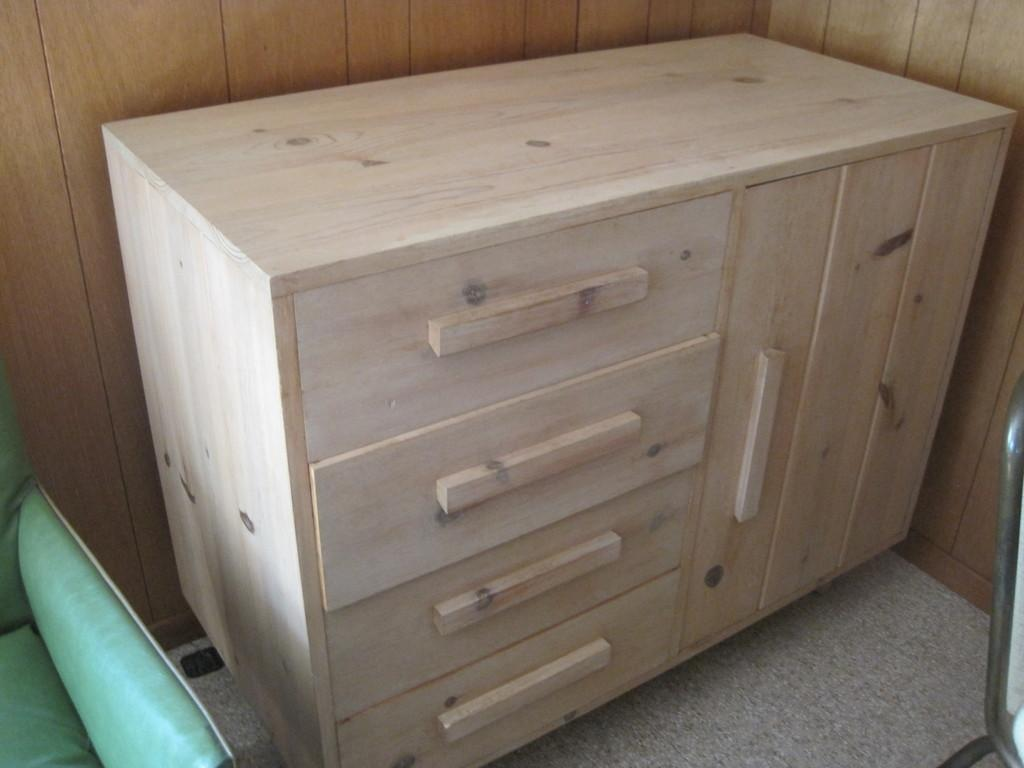cabinet_door: (306, 242, 722, 373), (349, 375, 696, 528), (351, 534, 692, 630), (732, 194, 801, 624), (810, 190, 876, 581), (375, 648, 673, 730), (887, 180, 955, 534)
handle: (431, 264, 652, 354), (422, 426, 652, 506), (440, 549, 626, 610), (445, 676, 600, 721), (756, 340, 782, 532)
